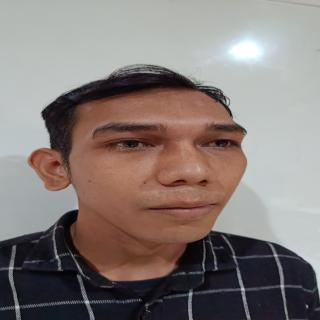Netral: (61, 82, 256, 253)
